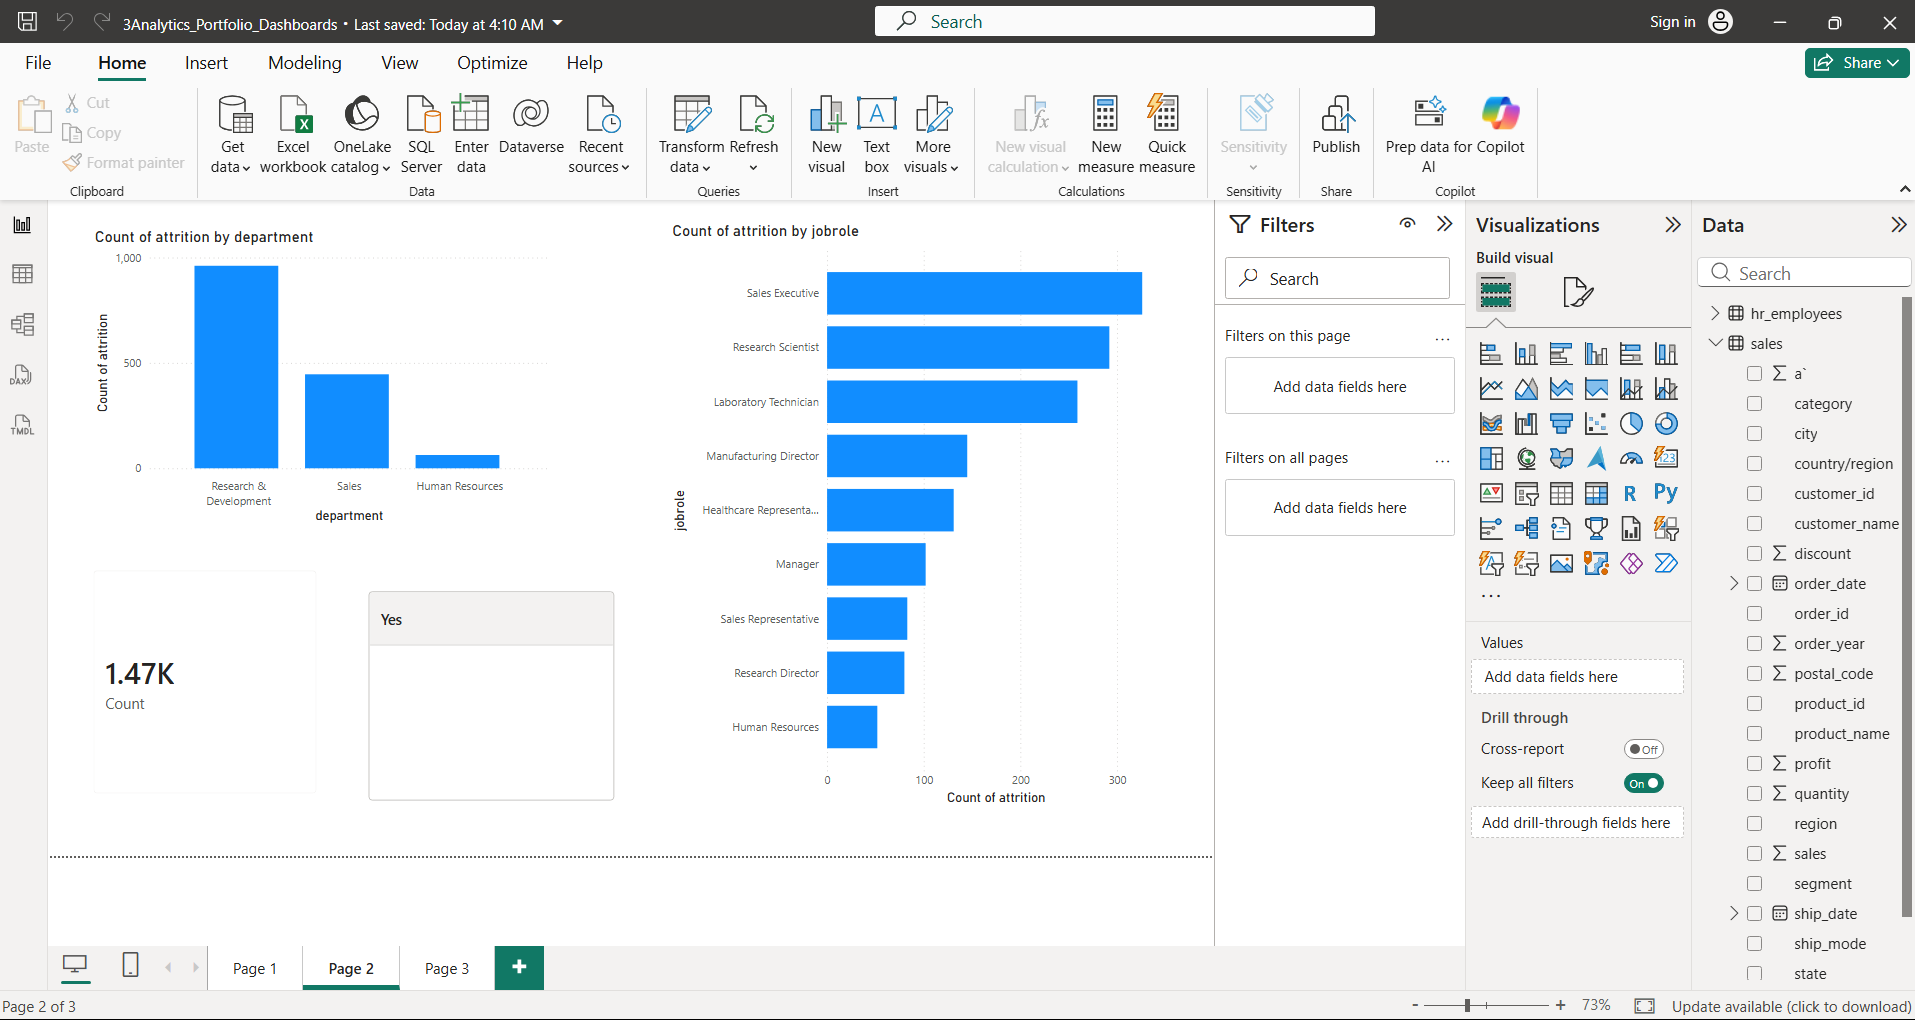

The dashboard page shown, as its layout file describes it:
{"tool":"powerbi","page":{"name":"Page 2","canvas":[1280,720],"ordinal":1},"visuals":[{"type":"cardVisual","fields":{"Data":["CountNonNull(hr_employees.employeenumber)"]},"box":[32.9,389.7,279.9,279.9],"z":0},{"type":"cardVisual","fields":{"Rows":["hr_employees.attrition"]},"box":[347.2,404.8,279.9,279.9],"z":1},{"type":"clusteredColumnChart","fields":{"Category":["hr_employees.department"],"Y":["CountNonNull(hr_employees.attrition)"]},"box":[46.7,30.2,507.7,329.3],"z":2},{"type":"clusteredBarChart","fields":{"Category":["hr_employees.jobrole"],"Y":["CountNonNull(hr_employees.attrition)"]},"box":[680.6,23.3,561.2,646.3],"z":3}]}

Visuals, with their boxes on the page's 1280x720 design canvas (x1, y1, x2, y2). These are canvas units, not pixel positions in the 1915x1020 screenshot, which may show the page scaled, cropped or inside an application window:
cardVisual - CountNonNull(hr_employees.employeenumber): [33, 390, 313, 670]
cardVisual - hr_employees.attrition: [347, 405, 627, 685]
clusteredColumnChart - hr_employees.department x CountNonNull(hr_employees.attrition): [47, 30, 554, 360]
clusteredBarChart - hr_employees.jobrole x CountNonNull(hr_employees.attrition): [681, 23, 1242, 670]
